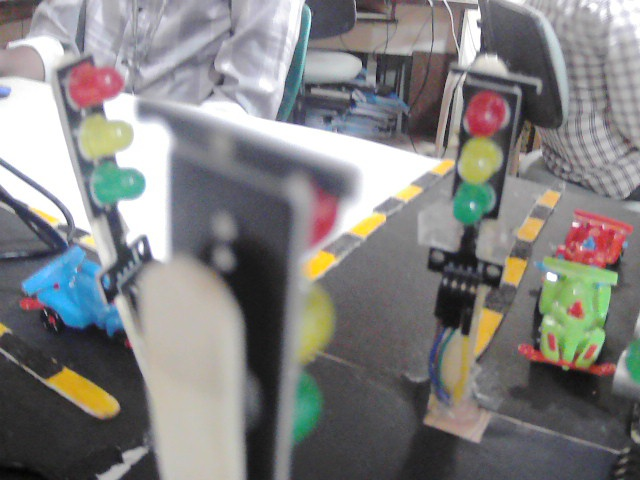car: (20, 264, 138, 357), (532, 258, 611, 380), (560, 211, 640, 275)
traffic_light: (254, 153, 341, 451), (30, 72, 171, 224), (448, 97, 494, 255)
